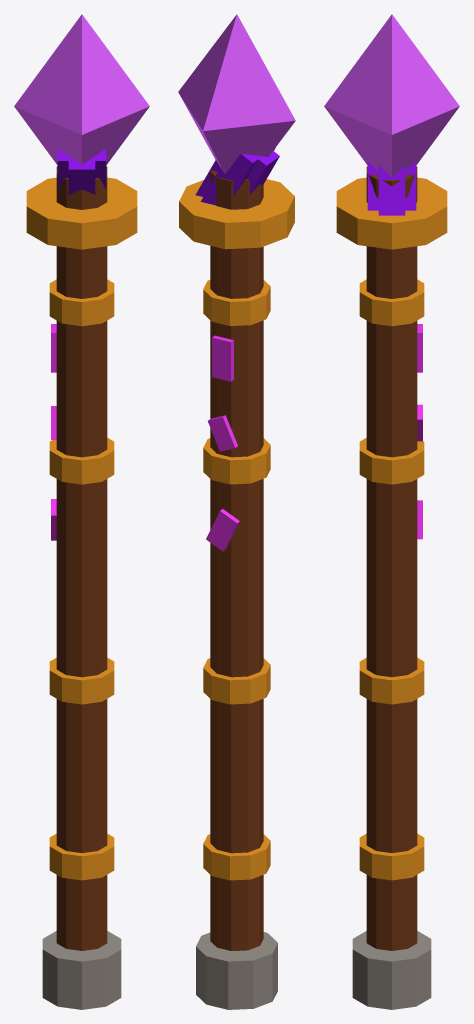
The model's file is Byron_Staff.obj.
The picture shows the model from 3 angles, left to right: view 1: azimuth 90°, elevation 25°; view 2: azimuth 150°, elevation 25°; view 3: azimuth 270°, elevation 25°; orthographic projection.
Parts seen in each view (by area): view 1: Shaft, TipCrystal, GoldBand, CrystalCollar, BottomPommel, CrystalPetal; view 2: Shaft, TipCrystal, GoldBand, CrystalCollar, BottomPommel, CrystalPetal, RuneC, RuneA, RuneB; view 3: Shaft, TipCrystal, GoldBand, CrystalCollar, BottomPommel, CrystalPetal.
Boxes of the visible parts, left/top/right/bottom form: Shaft: left=56, top=166, right=107, bottom=950; TipCrystal: left=14, top=14, right=149, bottom=164; GoldBand: left=49, top=279, right=114, bottom=880; CrystalCollar: left=26, top=177, right=137, bottom=249; BottomPommel: left=42, top=931, right=121, bottom=1009; CrystalPetal: left=57, top=149, right=106, bottom=194; Shaft: left=210, top=170, right=263, bottom=950; TipCrystal: left=178, top=14, right=295, bottom=174; GoldBand: left=203, top=280, right=270, bottom=880; CrystalCollar: left=179, top=179, right=294, bottom=249; BottomPommel: left=196, top=932, right=277, bottom=1009; CrystalPetal: left=195, top=147, right=279, bottom=205; RuneC: left=212, top=335, right=233, bottom=381; RuneA: left=206, top=509, right=239, bottom=551; RuneB: left=208, top=415, right=237, bottom=451; Shaft: left=366, top=166, right=417, bottom=950; TipCrystal: left=324, top=14, right=459, bottom=177; GoldBand: left=359, top=279, right=424, bottom=880; CrystalCollar: left=336, top=177, right=447, bottom=249; BottomPommel: left=352, top=931, right=431, bottom=1009; CrystalPetal: left=367, top=161, right=416, bottom=215.
Size of the model in its own units: 0.28 by 2.23 by 0.28.
